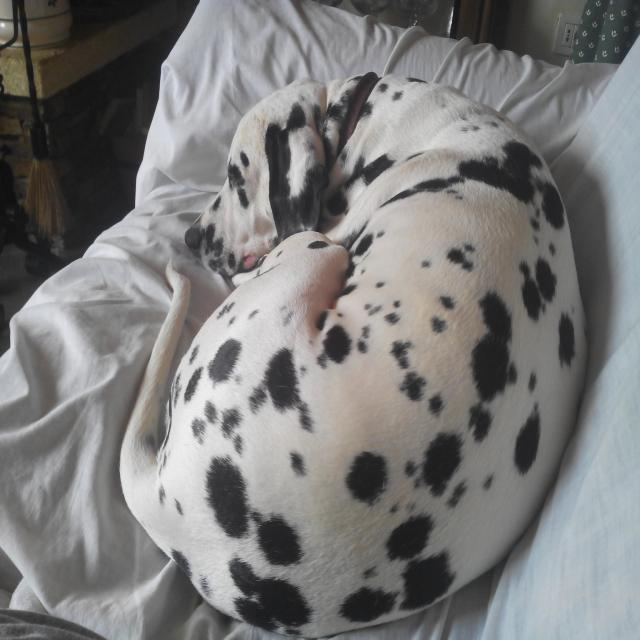dog: (125, 51, 611, 639)
